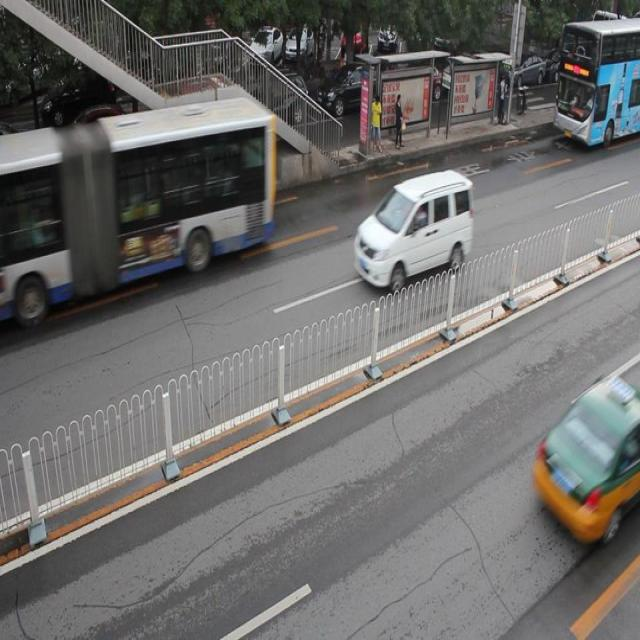car: (529, 368, 640, 545), (51, 104, 135, 174), (145, 96, 232, 159), (322, 69, 394, 135), (250, 74, 317, 138), (1, 127, 33, 180)
truck: (353, 165, 470, 292)
van: (1, 95, 275, 321), (550, 10, 640, 151)
